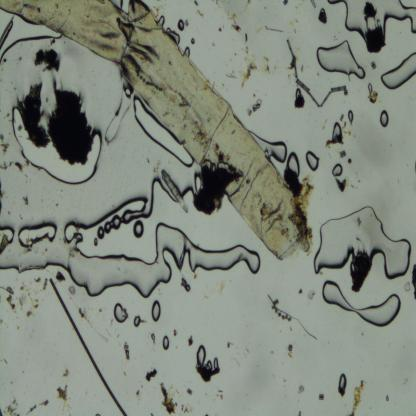Air bubble: (64, 222, 260, 298), (314, 207, 411, 280), (11, 108, 102, 185), (132, 97, 194, 168), (322, 280, 402, 327), (327, 0, 416, 38), (0, 24, 57, 64), (96, 202, 154, 240), (317, 40, 366, 79), (380, 52, 416, 91), (250, 132, 288, 165), (18, 223, 58, 247), (286, 151, 300, 176), (0, 224, 15, 247), (305, 151, 320, 171), (113, 303, 128, 323), (331, 120, 342, 144), (150, 300, 162, 322), (133, 220, 145, 239), (168, 27, 180, 45), (330, 162, 344, 177), (196, 344, 206, 365), (193, 172, 202, 192), (338, 372, 347, 392), (379, 111, 389, 128), (162, 336, 170, 350), (178, 18, 186, 32), (347, 109, 354, 123), (132, 316, 140, 328), (124, 86, 132, 97), (213, 356, 219, 370), (158, 16, 165, 27), (183, 44, 190, 55), (371, 59, 377, 71), (368, 83, 374, 94), (186, 388, 194, 396), (207, 360, 213, 370), (191, 38, 196, 46), (94, 237, 98, 247)
Background material: (49, 278, 128, 414), (50, 77, 94, 167), (15, 85, 50, 148), (104, 103, 131, 146), (349, 377, 366, 415), (35, 47, 61, 71), (159, 380, 178, 412), (195, 365, 221, 383), (242, 60, 258, 88), (0, 18, 14, 48), (5, 286, 18, 315), (225, 11, 242, 33), (0, 398, 20, 415), (247, 100, 264, 117), (25, 300, 41, 318), (17, 284, 28, 309), (334, 175, 348, 192), (56, 383, 68, 401), (0, 135, 10, 156), (294, 93, 306, 110), (76, 307, 88, 323), (0, 182, 5, 219), (179, 276, 191, 291), (368, 92, 379, 108), (284, 343, 295, 359), (317, 8, 327, 25), (145, 369, 158, 382), (264, 25, 284, 33), (0, 158, 13, 170), (411, 267, 416, 298), (54, 269, 65, 283), (401, 280, 412, 294), (262, 56, 270, 74), (306, 287, 316, 301), (123, 340, 130, 360), (244, 32, 249, 59), (26, 403, 37, 414), (22, 194, 30, 209), (14, 161, 24, 173), (188, 332, 195, 348), (38, 398, 50, 407), (42, 276, 48, 293), (296, 385, 306, 395), (62, 367, 70, 379), (68, 284, 76, 296), (195, 9, 205, 18), (150, 332, 156, 345), (217, 388, 223, 401), (34, 276, 42, 283), (172, 328, 179, 336), (310, 0, 317, 8), (297, 288, 304, 295), (192, 1, 200, 7), (226, 341, 232, 348), (347, 157, 352, 165)
Diatom: (270, 304, 292, 324), (287, 38, 298, 78), (296, 78, 310, 94), (320, 90, 332, 108), (309, 90, 319, 108), (330, 85, 348, 92), (338, 149, 347, 159), (318, 392, 325, 402), (282, 0, 290, 6), (344, 88, 349, 97), (18, 124, 22, 132)
Microfibre: (160, 169, 189, 215)
